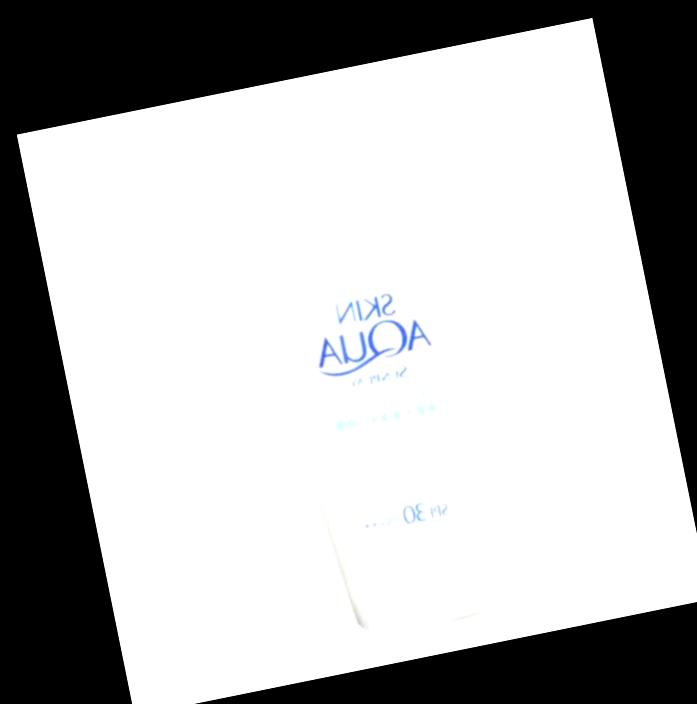cosmetic: (244, 100, 509, 629)
